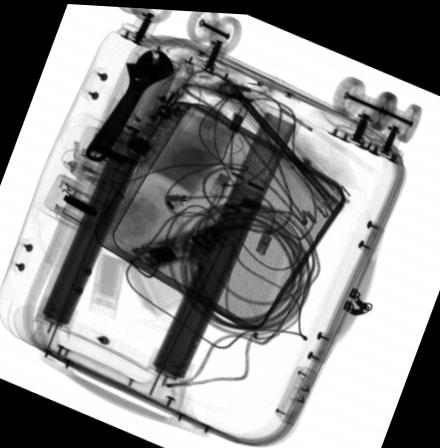Wrench: (84, 47, 173, 160)
